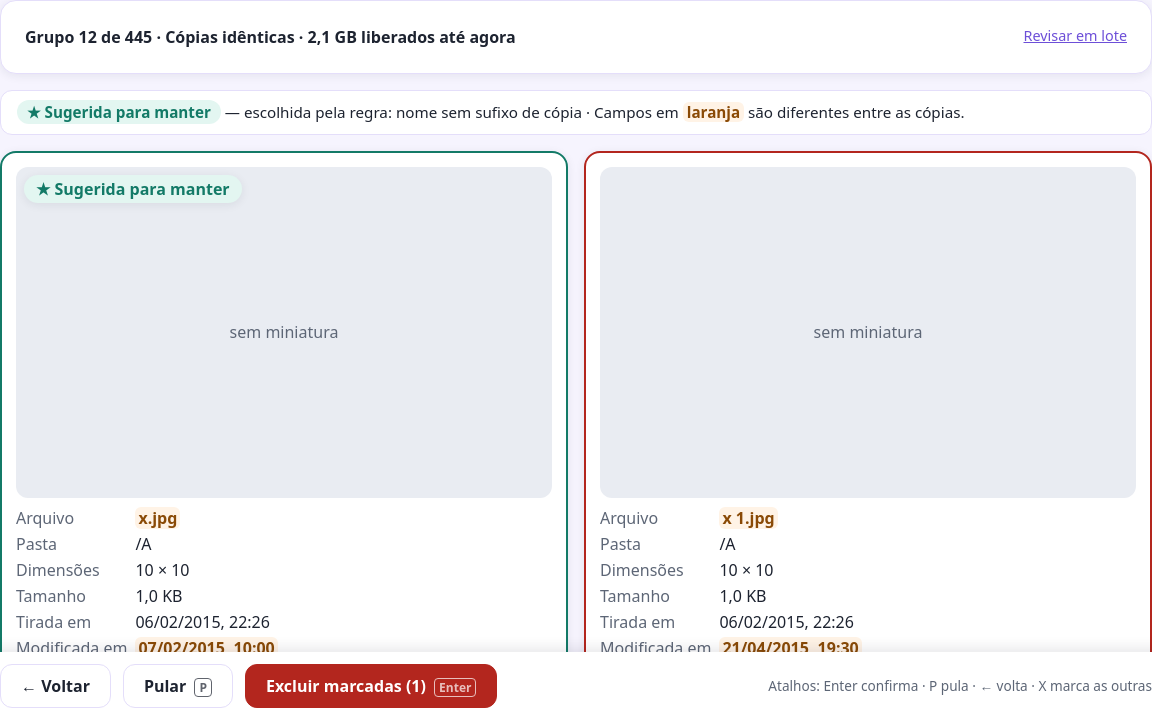
modal de confirmação › Voltar e clique no fundo fecham sem enviar
The image size is (1152, 720).
Click the button "Excluir marcadas (1) Enter": (371, 686) x1=245 y1=664 x2=498 y2=708
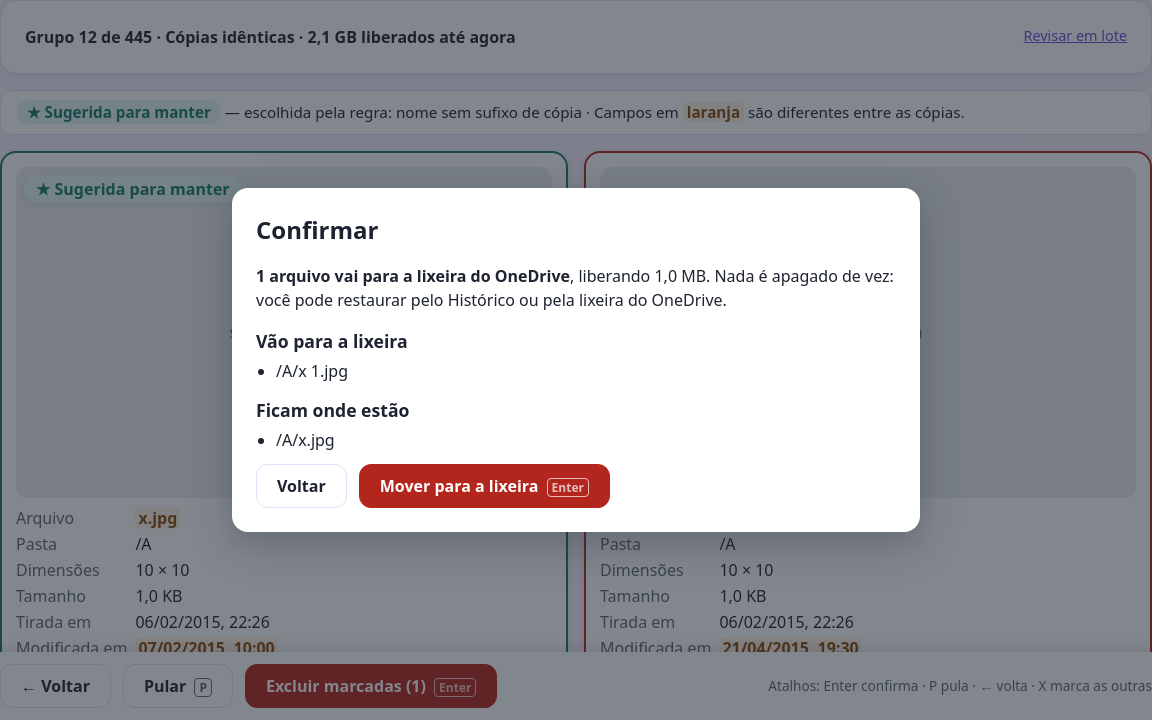
Click the button "Voltar": (301, 486) x1=256 y1=464 x2=347 y2=508
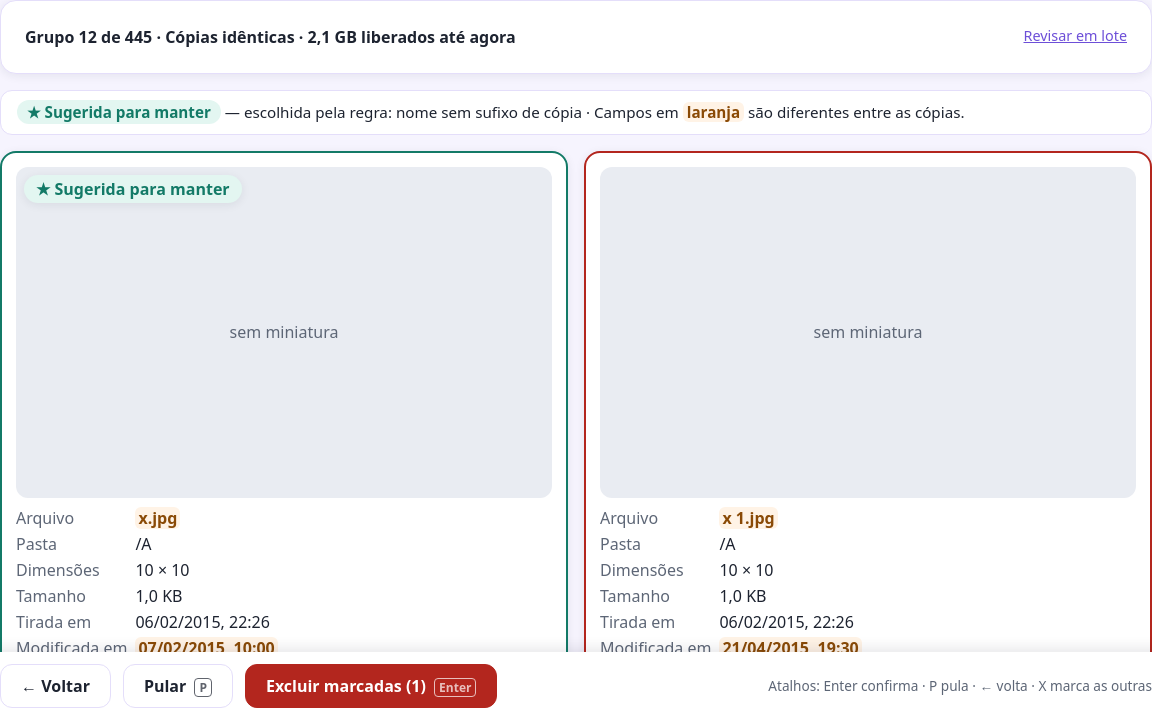
Result: the dialog is gone
Click the button "Excluir marcadas (1) Enter": (371, 686) x1=245 y1=664 x2=498 y2=708
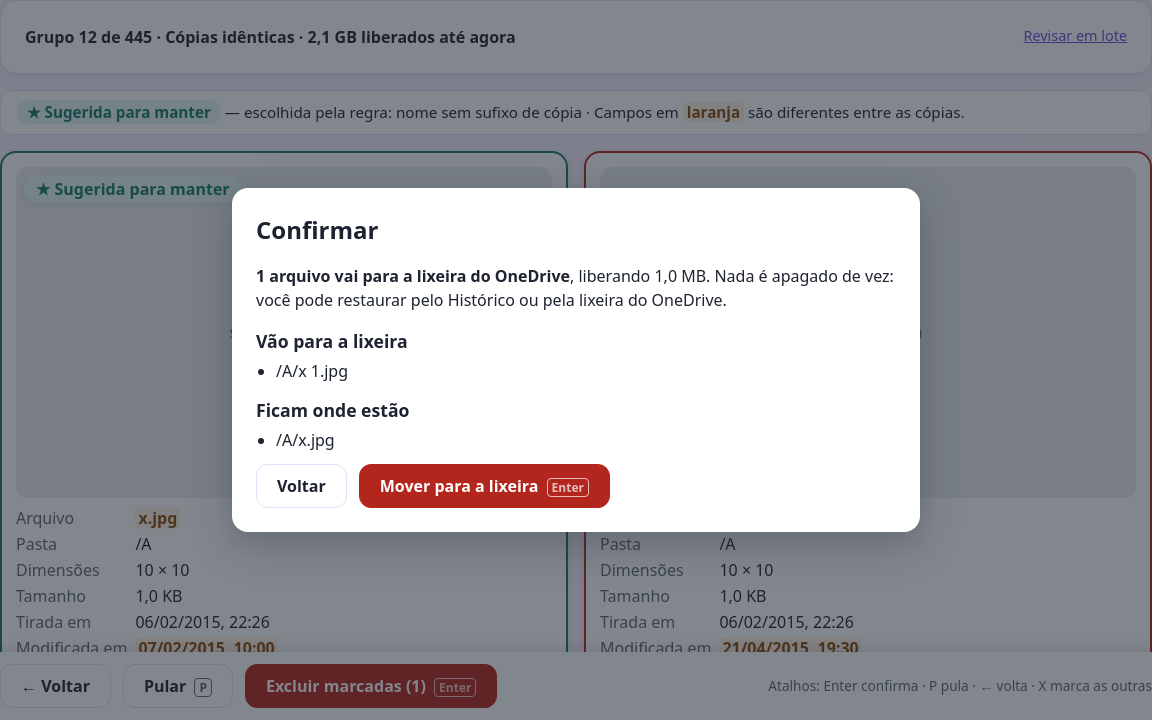
Result: the dialog is shown at x1=232 y1=188 x2=920 y2=532
Click the element that starts with "Confirmar": (69, 360) x1=0 y1=0 x2=1151 y2=719
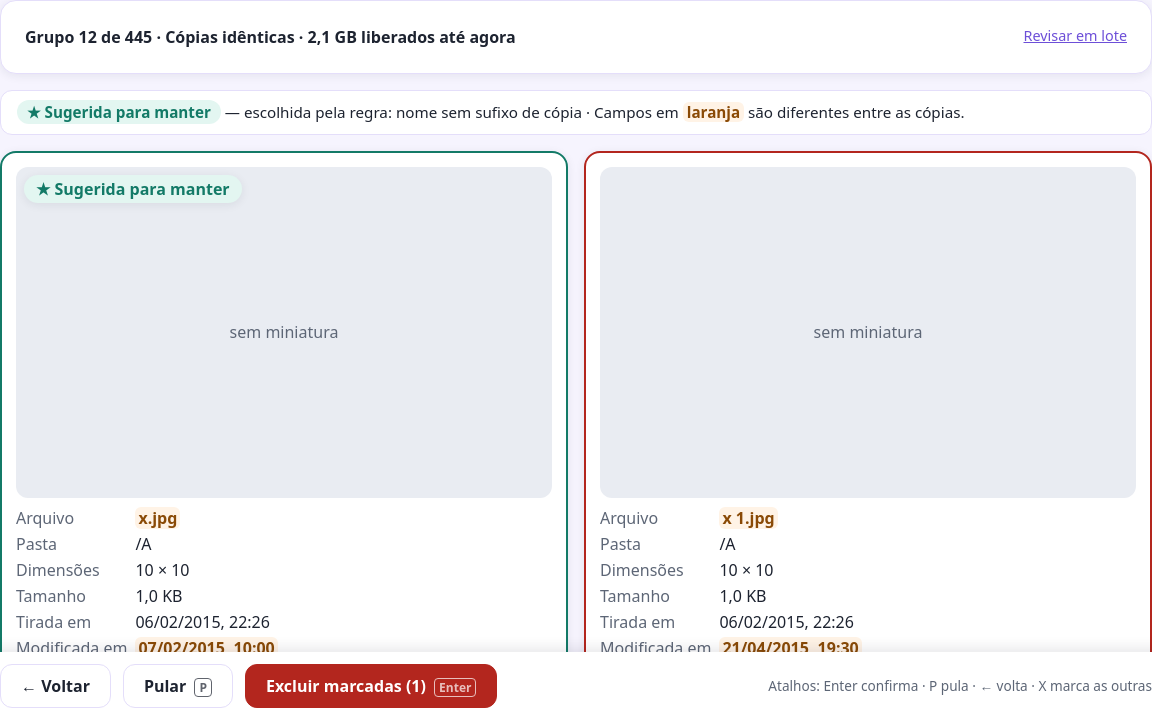
Result: the dialog is gone
